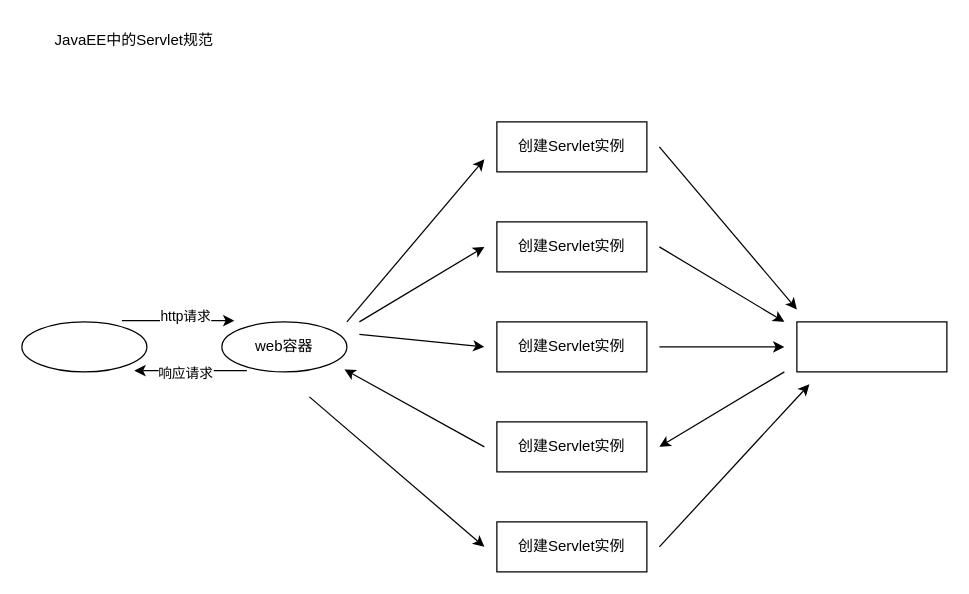
Image size: 969x594. Some labels were removed from this diagram. The shapes that lost their labels are listed below. From the top down, each one's centre as x and y in pixels, then its label:
(x=84, y=346): 浏览器
(x=871, y=346): Servlet
